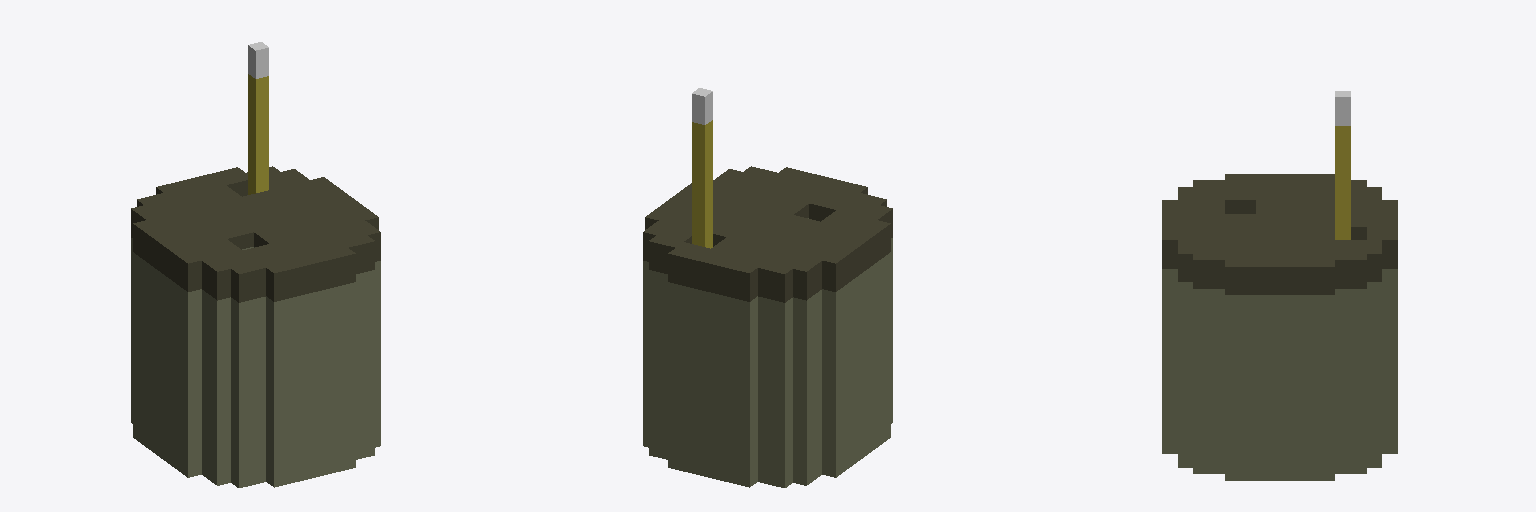
3 renders of one model, left to right at view 1: azimuth 30°, elevation 25°; view 2: azimuth 150°, elevation 25°; view 3: azimuth 270°, elevation 25°, orthographic.
Parts seen in each view (by area): view 1: object 1; view 2: object 1; view 3: object 1.
Part boxes in pixels (left/top/right/bottom): object 1: left=131, top=42, right=380, bottom=487; object 1: left=643, top=88, right=892, bottom=487; object 1: left=1162, top=91, right=1397, bottom=480.
Size of the model in its own units: 1.4 by 2.5 by 1.5.
1 materials, 1 textured.